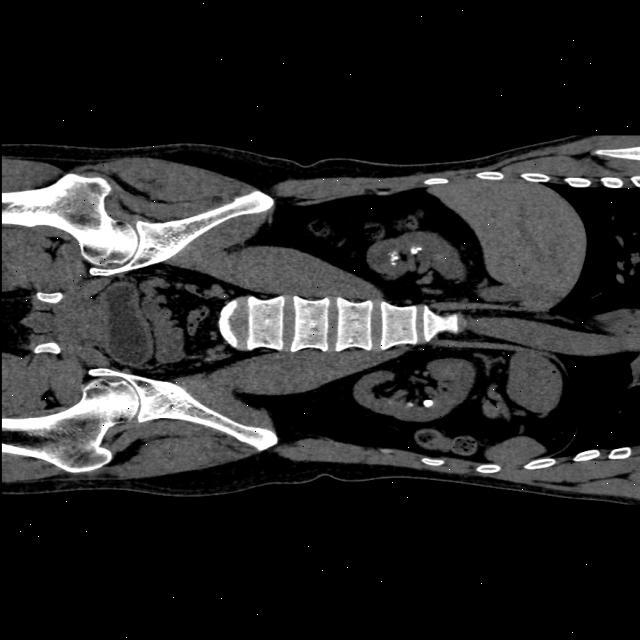kidneystone: (411, 246, 421, 254), (422, 399, 433, 406)
